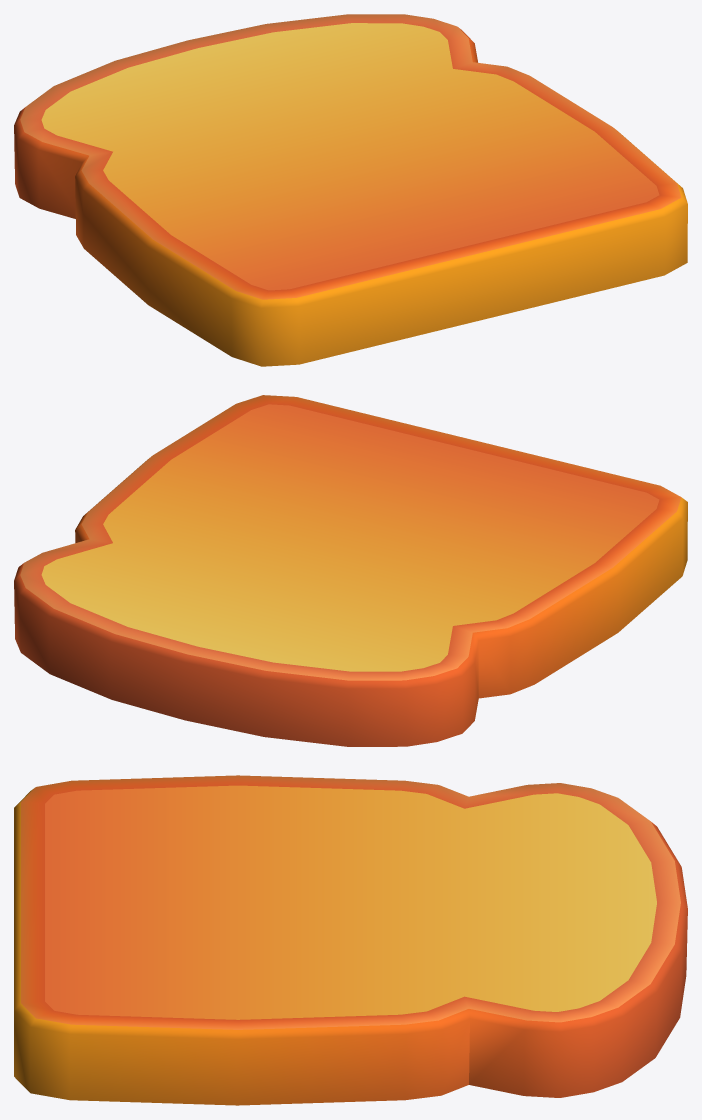
File: sandwich_003.fbx
3 renders of one model, top to bottom at view 1: azimuth 30°, elevation 25°; view 2: azimuth 150°, elevation 25°; view 3: azimuth 270°, elevation 25°, orthographic. The views are drawn at different scales.
Visible parts, largest first — view 1: sandwich_003; view 2: sandwich_003; view 3: sandwich_003.
Boxes of the visible parts, box(x1,y1,x2,y2) form: sandwich_003: box(14, 14, 687, 366); sandwich_003: box(14, 395, 687, 746); sandwich_003: box(14, 775, 687, 1105).
Size of the model in its own units: 12.98 by 14.19 by 1.69.
